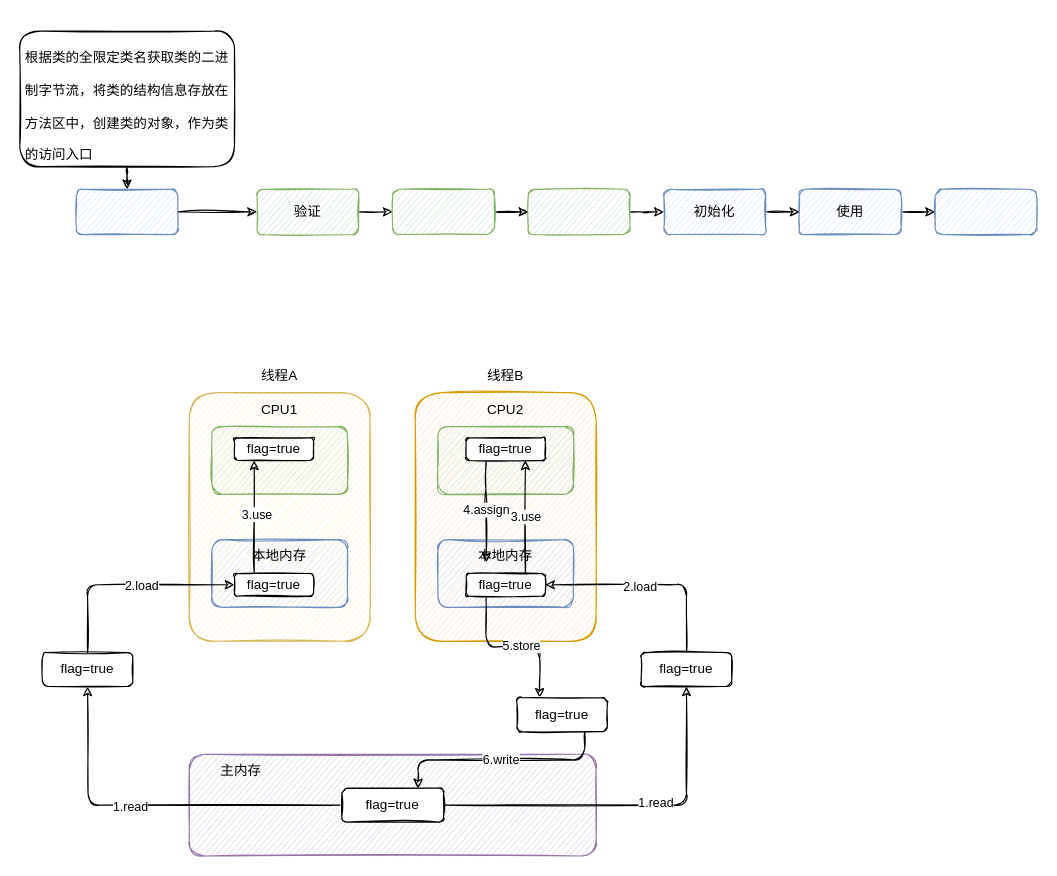
This 1057x876 diagram has some shape labels left out. Each missing label, with the box of its shape:
准备: (392, 188, 494, 234)
加载: (75, 188, 178, 234)
卸载: (934, 188, 1037, 234)
解析: (527, 188, 630, 234)
